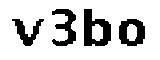3: (48, 7, 77, 49)
b: (82, 7, 112, 49)
o: (118, 17, 147, 50)
v: (8, 17, 44, 50)
